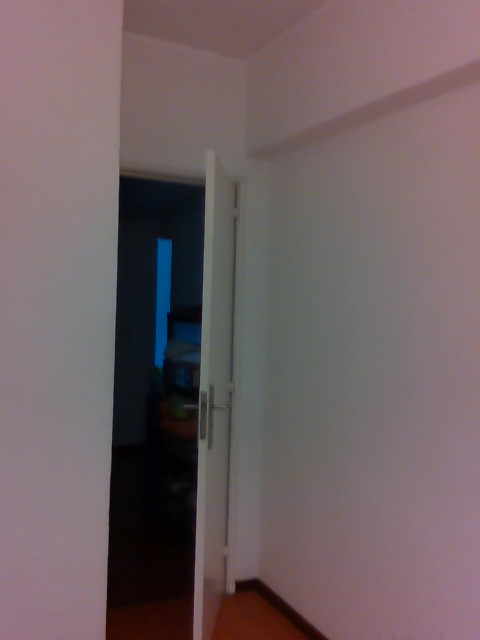semi: (118, 152, 246, 638)
